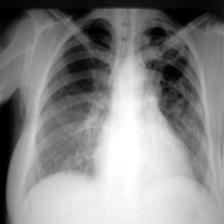tuberculosis: (13, 14, 220, 206)
